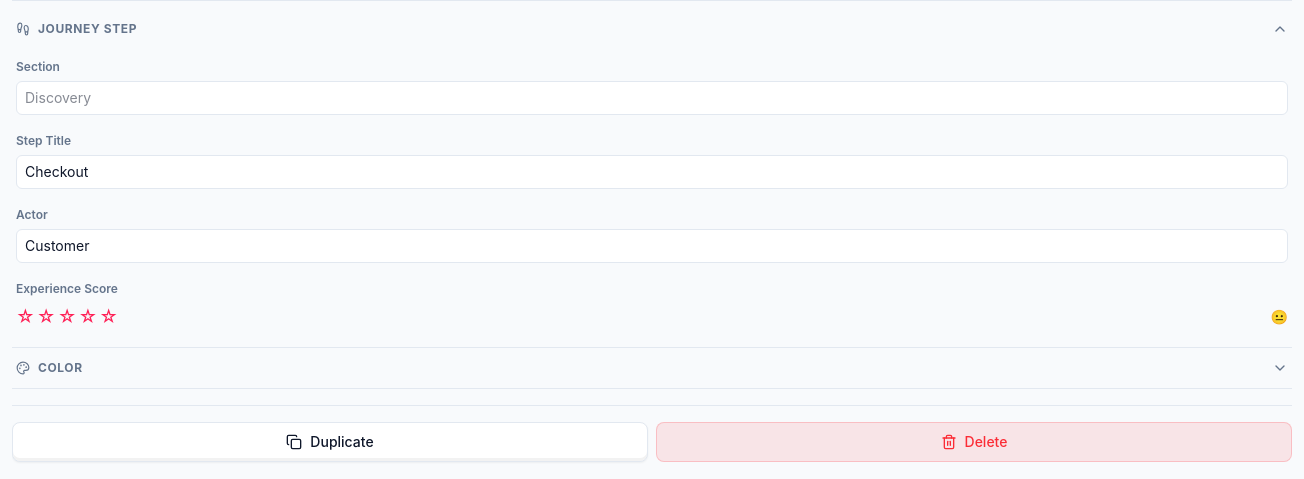
it: specialized node property panels › shows the shared color section for journey nodes
Click the button "Color" at [60, 368], box [12,348,1292,388]
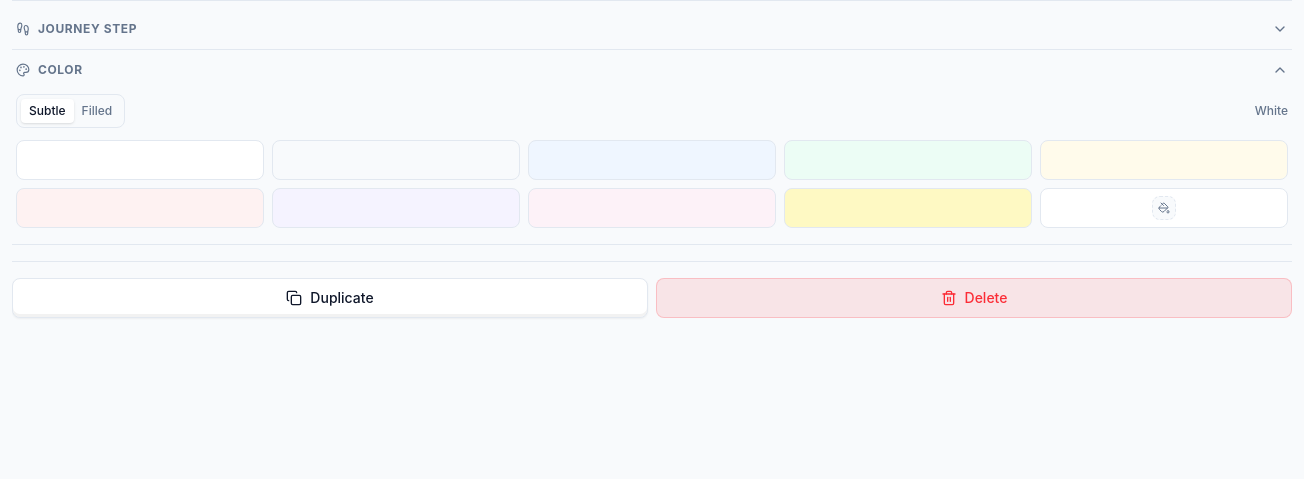
Expected: the button named "Custom" is shown, [1040,188,1288,228]
Expected: the button "Filled" is shown, [74,99,120,123]
